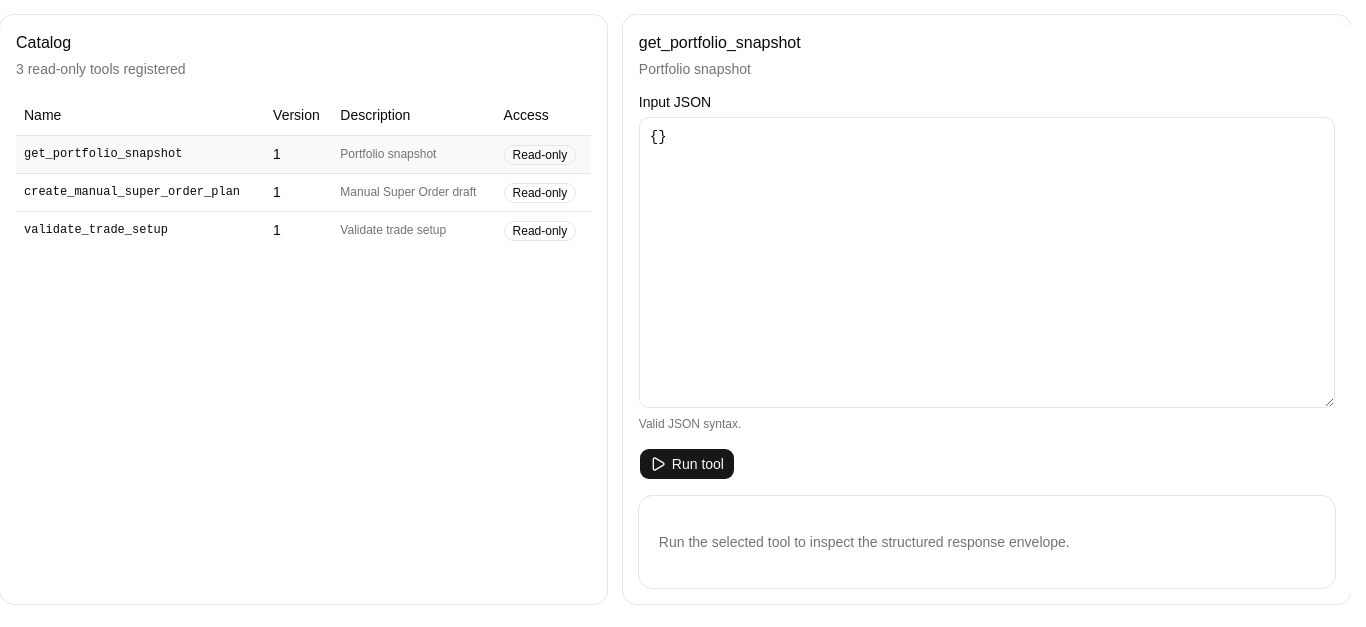
ToolTesterPage › executes a tool and renders the envelope
Click the button with test id "tool-run-button" at {"x": 687, "y": 464}, box [639,448,735,480]
(page scrolled)
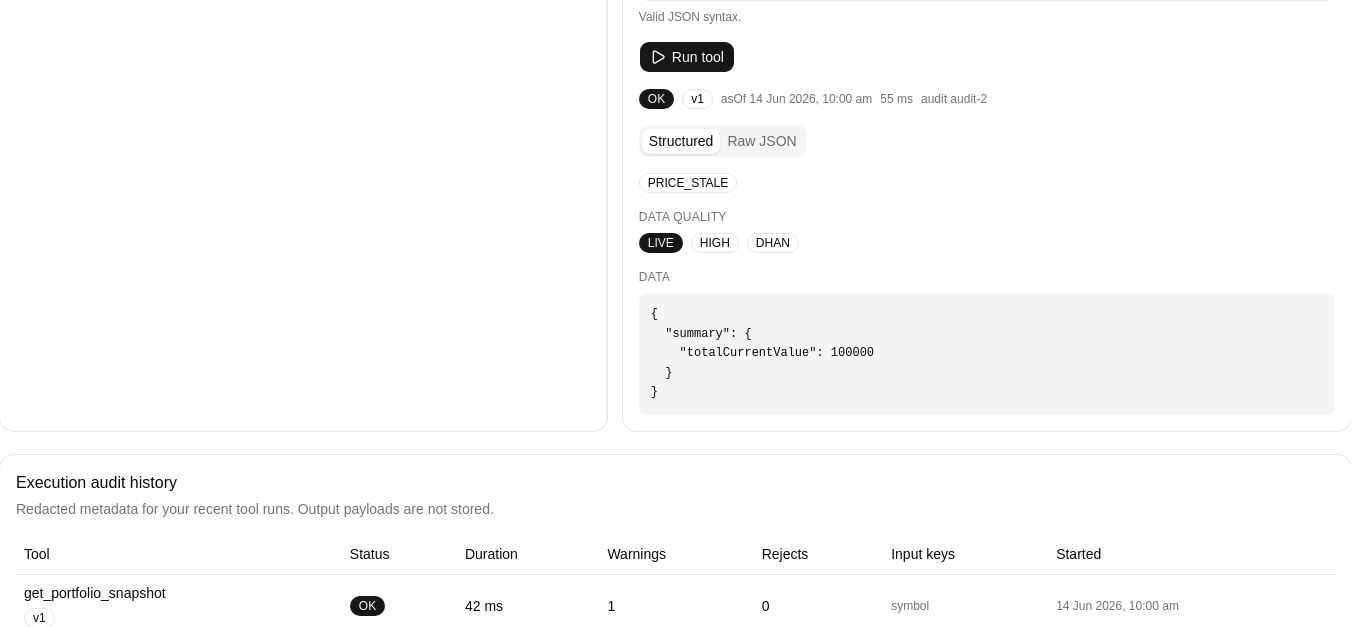
Expected: the element with test id "tool-envelope-view" is shown, [639,89,1335,414]
Expected: the icon with test id "tool-status-badge" reads "OK", [648,92,665,106]
Expected: the text with test id "tool-audit-id" shows "audit-2", [950,92,987,106]
